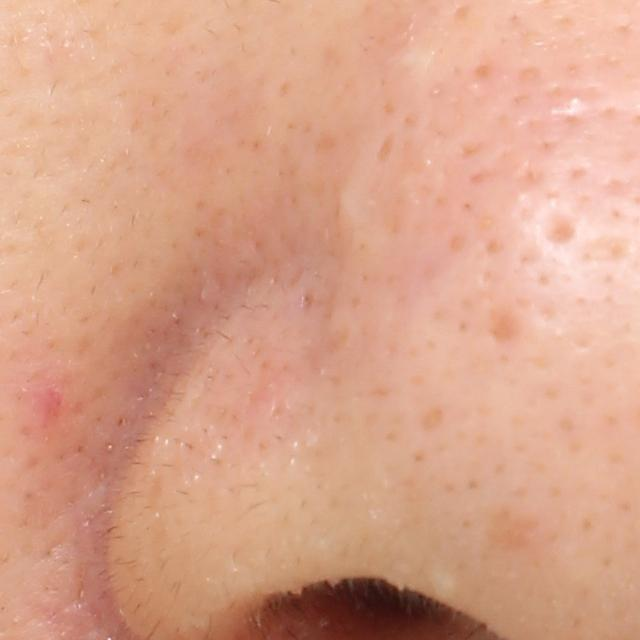atrophic_scar: (481, 297, 532, 356), (538, 204, 588, 256)
